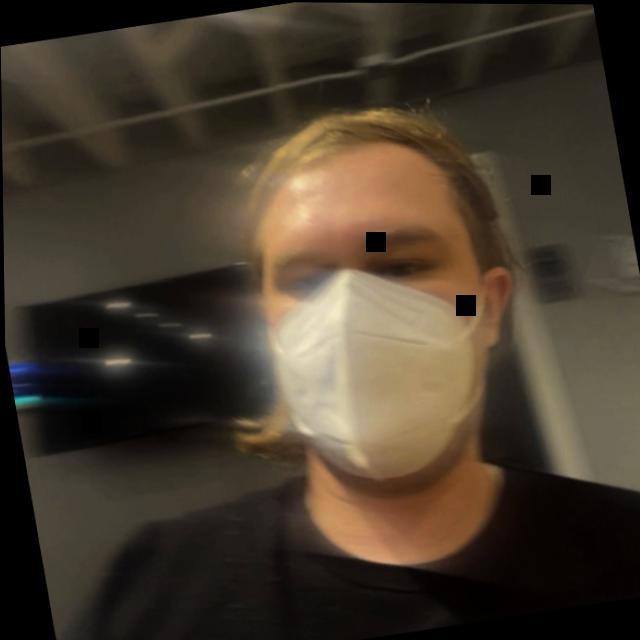Mask: (139, 61, 627, 594)
